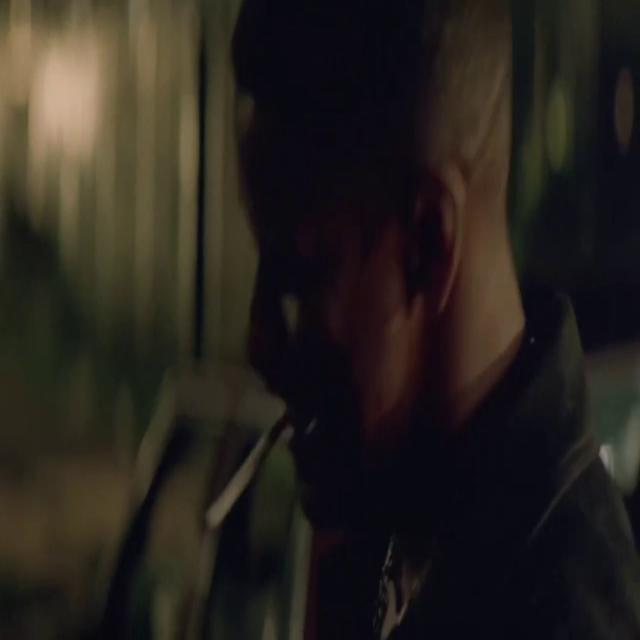Smooking: (195, 394, 292, 558)
